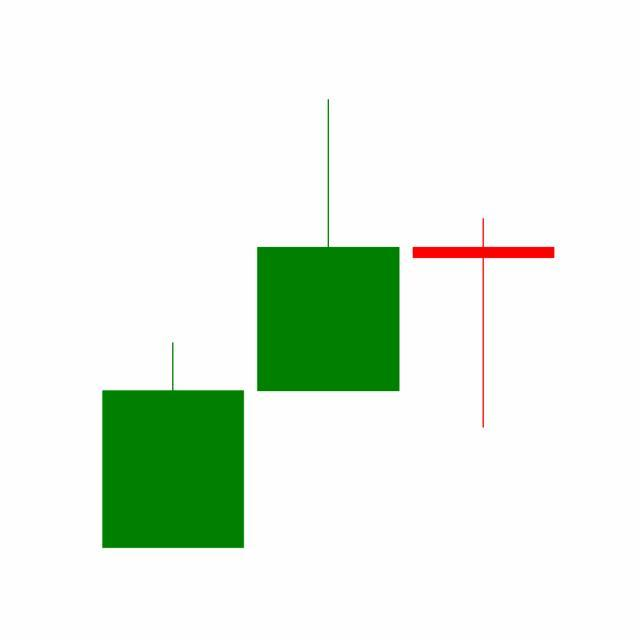Dragonfly Doji: (406, 216, 562, 430)
